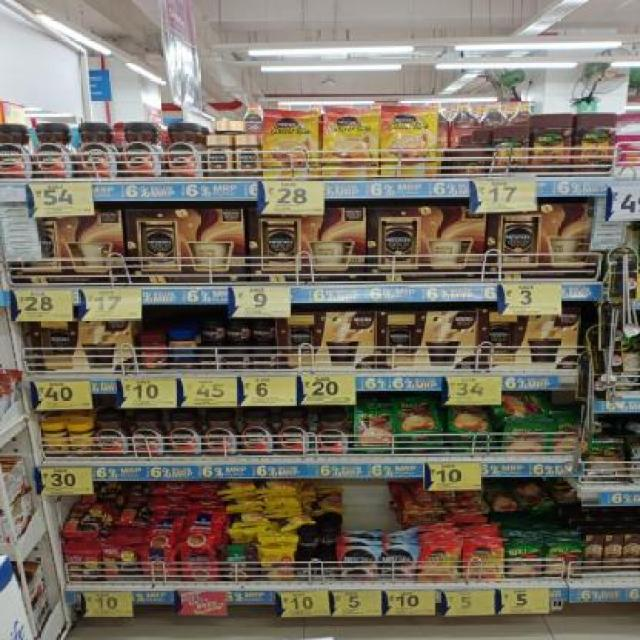Coffee: (381, 111, 436, 175), (324, 112, 378, 176), (265, 112, 317, 176), (122, 123, 163, 179), (75, 123, 117, 177), (32, 123, 72, 179), (164, 122, 202, 178), (0, 124, 31, 178), (463, 544, 505, 582), (130, 412, 165, 457), (335, 546, 380, 580), (94, 412, 128, 457), (416, 545, 459, 580), (240, 411, 274, 455), (276, 412, 310, 456), (168, 413, 202, 455), (204, 413, 236, 456), (316, 414, 349, 454), (380, 547, 416, 578), (234, 135, 260, 176), (206, 135, 231, 177), (199, 319, 224, 341), (226, 347, 249, 370), (226, 319, 249, 341), (254, 317, 275, 341), (198, 348, 222, 369), (251, 350, 274, 370), (296, 563, 318, 580), (298, 536, 320, 550)
